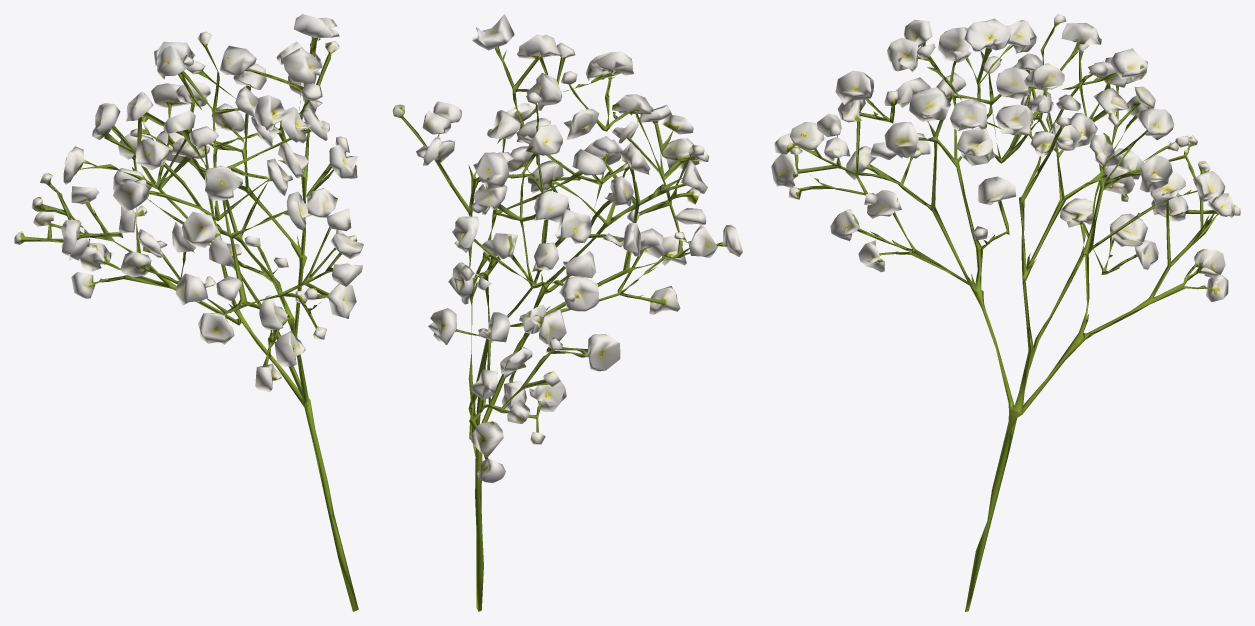
File: Babies Breathe.glb
3 renders of one model, left to right at view 1: azimuth 30°, elevation 25°; view 2: azimuth 150°, elevation 25°; view 3: azimuth 270°, elevation 25°, orthographic. The views are drawn at different scales.
Parts seen in each view (by area): view 1: tripo_node_c9edcab3-225b-4573-aa6c-aeabd08ea1c8; view 2: tripo_node_c9edcab3-225b-4573-aa6c-aeabd08ea1c8; view 3: tripo_node_c9edcab3-225b-4573-aa6c-aeabd08ea1c8.
Boxes of the visible parts, x1=… form: tripo_node_c9edcab3-225b-4573-aa6c-aeabd08ea1c8: x1=14, y1=14, x2=363, y2=611; tripo_node_c9edcab3-225b-4573-aa6c-aeabd08ea1c8: x1=392, y1=14, x2=742, y2=611; tripo_node_c9edcab3-225b-4573-aa6c-aeabd08ea1c8: x1=771, y1=14, x2=1240, y2=611.
Size of the model in its own units: 0.4398 by 0.9993 by 0.7383.
Materials: 1 (1 with a texture image).
